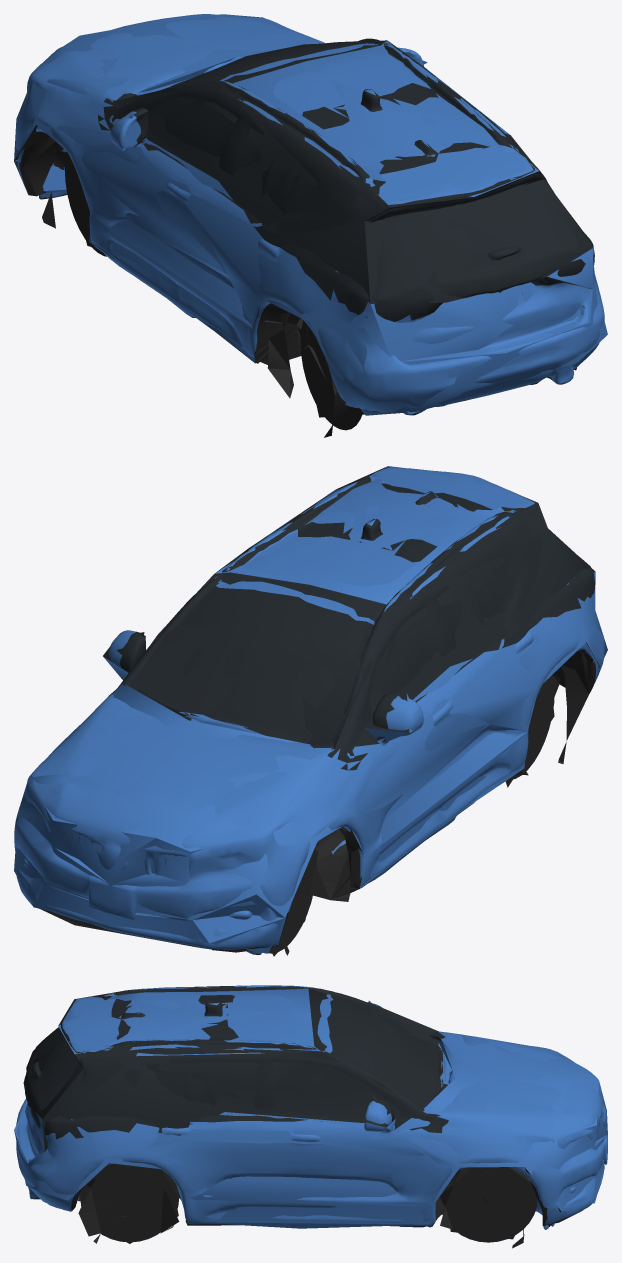
File: volvo-xc40.glb
3 renders of one model, top to bottom at view 1: azimuth 30°, elevation 25°; view 2: azimuth 150°, elevation 25°; view 3: azimuth 270°, elevation 25°, orthographic. The views are drawn at different scales.
Parts seen in each view (by area): view 1: body, far; view 2: body, far; view 3: body, far.
Part boxes in pixels (left/top/right/bottom): body: left=15, top=14, right=604, bottom=436; far: left=14, top=14, right=607, bottom=437; body: left=14, top=467, right=604, bottom=954; far: left=14, top=466, right=607, bottom=956; body: left=16, top=985, right=607, bottom=1248; far: left=14, top=988, right=607, bottom=1243.
Size of the model in its own units: 2.02 by 1.71 by 4.46.
